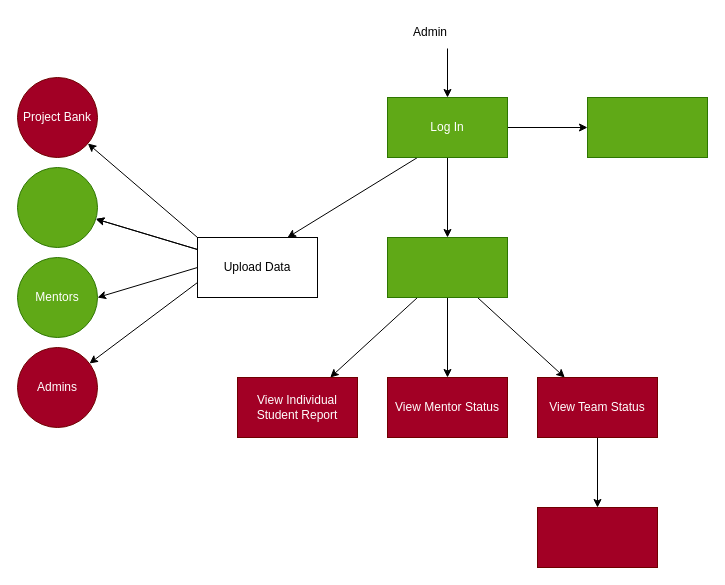
Some shapes in this 725 by 585 pixel diagram are drawn without their labels. The shapes that lost their labels are listed below. From the top down, each one's box as (x1, y1, x2, y2) in pixels, then its label:
(586, 96, 708, 158): Log Out
(16, 166, 98, 248): Students
(386, 236, 508, 298): Validate Teams
(536, 506, 658, 568): Allocate Leftover teams
